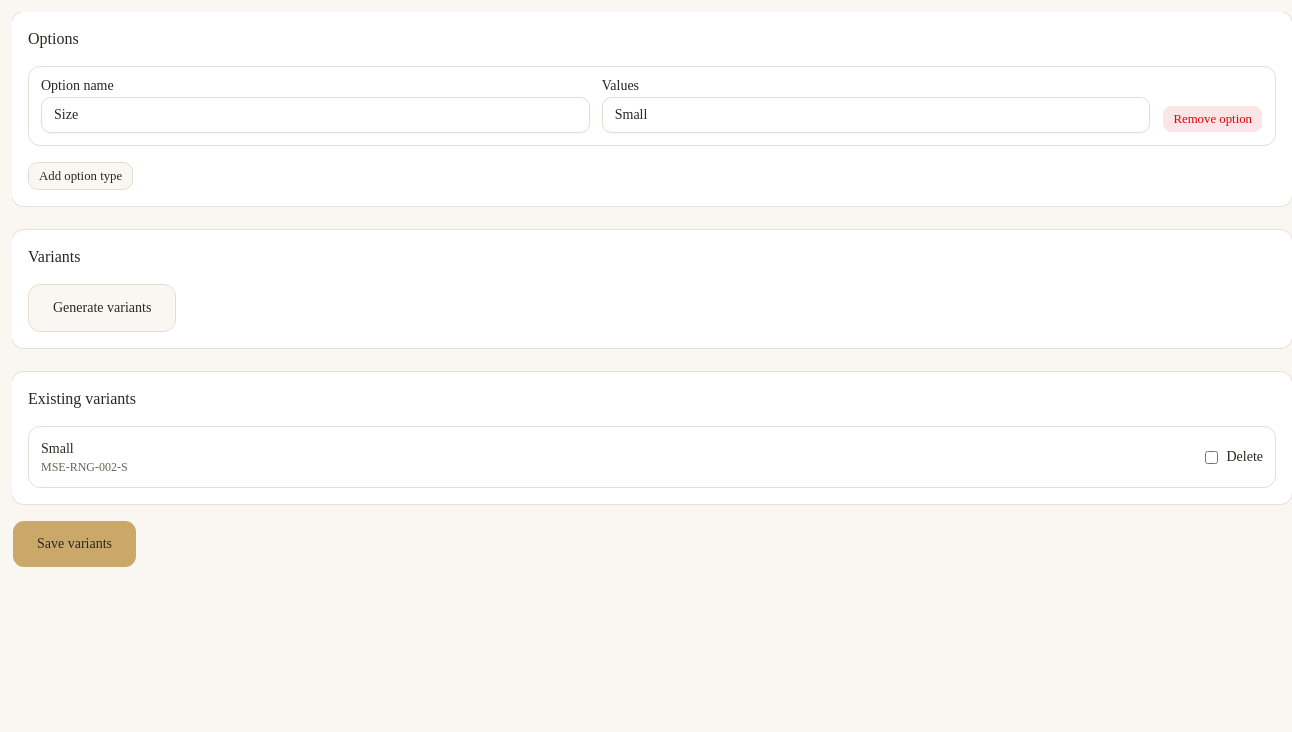
Test: VariantStructurePanel › 'variant-has-orders' shows a clear alert distinct from the generic error
The width and height of the screenshot is (1292, 732).
Click the checkbox labelled "Delete" at (1212, 457), box top-left (1206, 450), bottom-right (1218, 464)
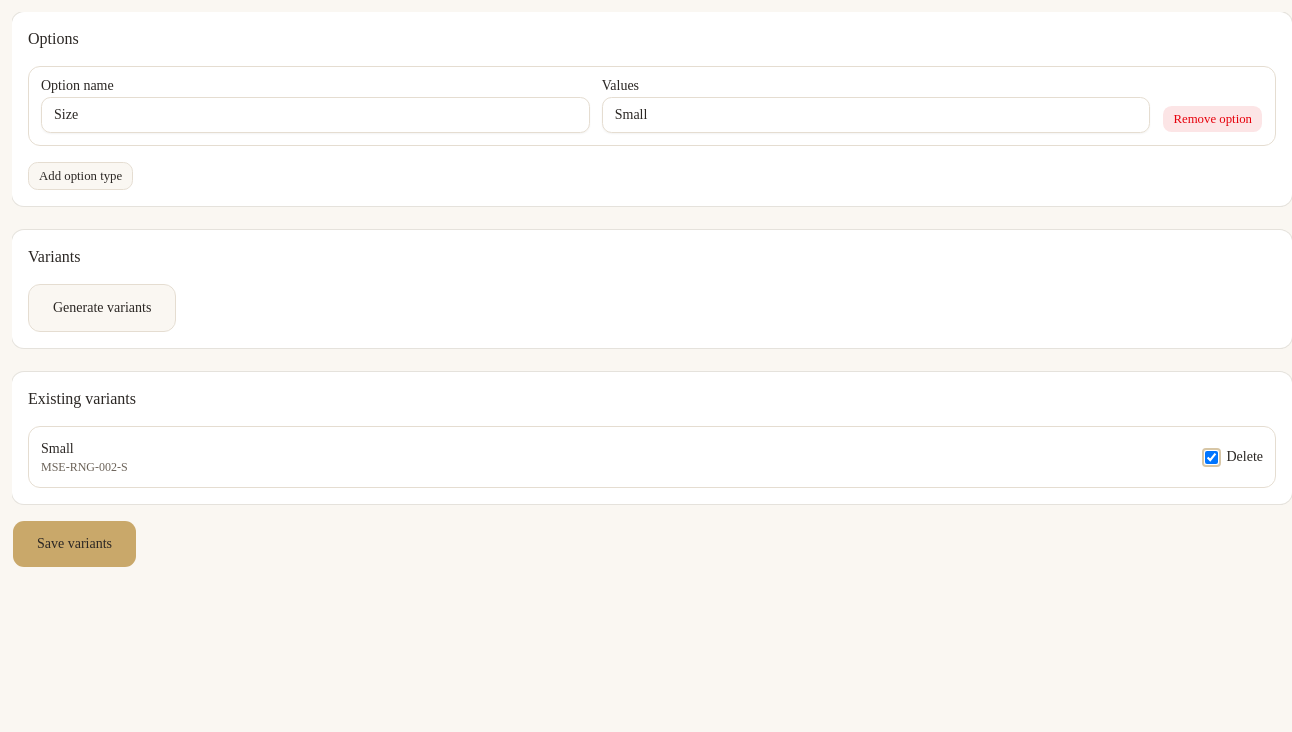
Click the button "Save variants" at (74, 544), box top-left (12, 520), bottom-right (137, 568)
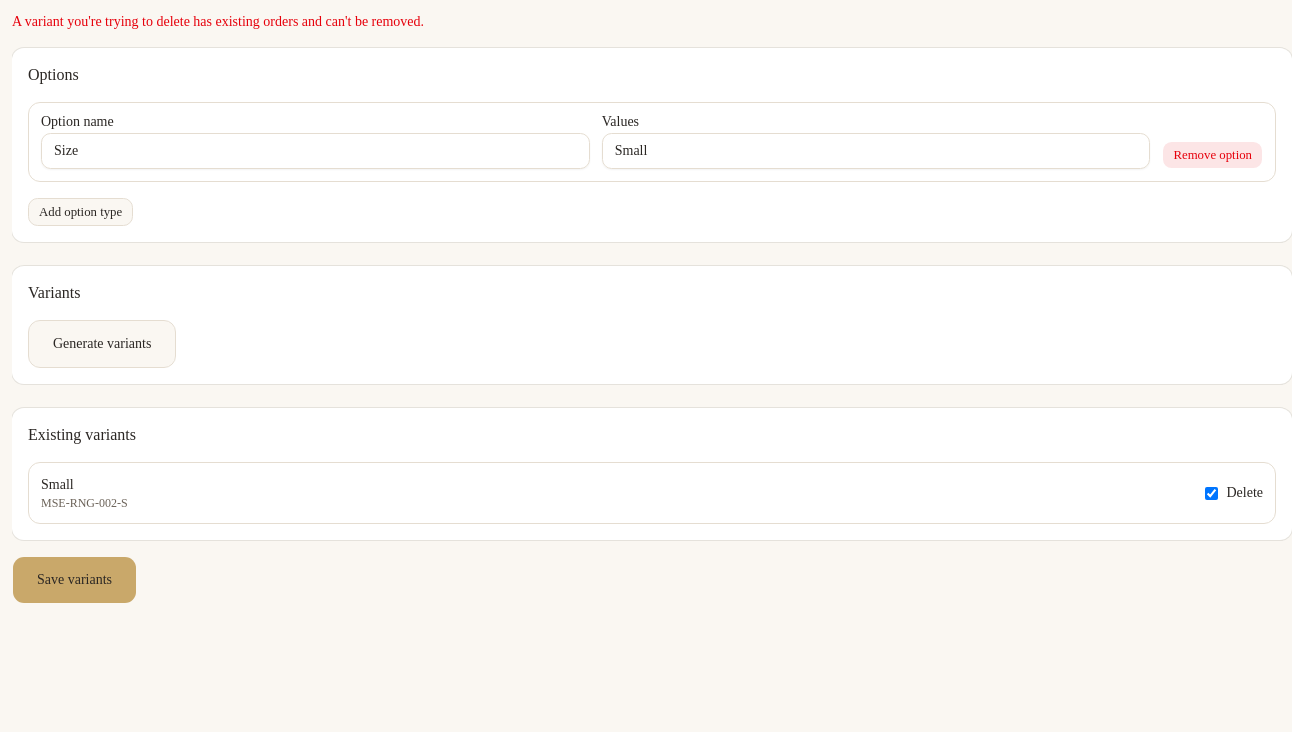
Expected: the message does not show "something went wrong", top-left (12, 14), bottom-right (424, 29)
Result: the message shows "existing orders" at top-left (12, 14), bottom-right (424, 29)
